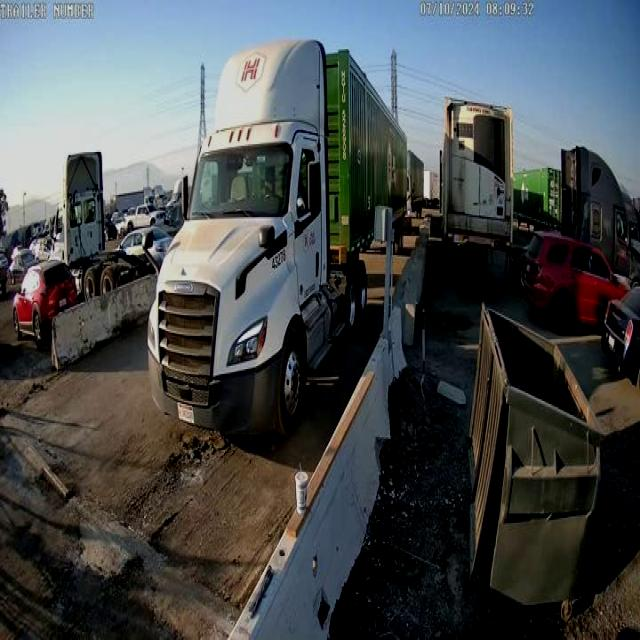TRUCK_CONTAINER: (146, 37, 410, 440)
